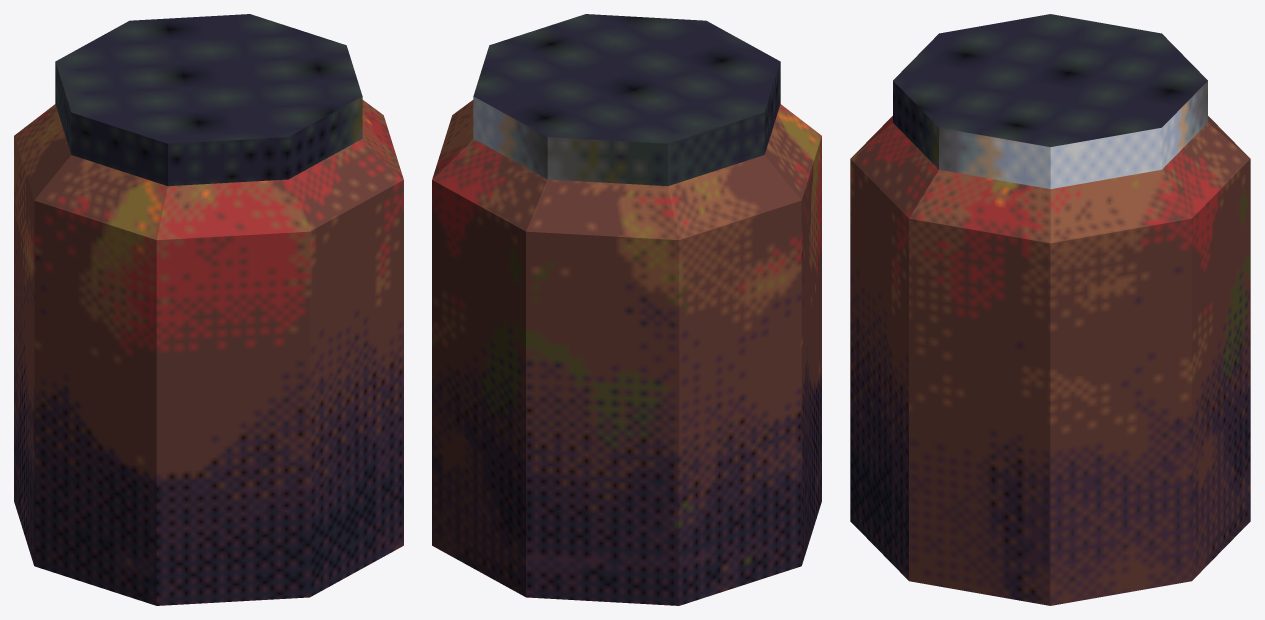
The model's file is Jar.fbx.
3 views of the same model, side by side, from view 1: azimuth 30°, elevation 25°; view 2: azimuth 150°, elevation 25°; view 3: azimuth 270°, elevation 25° (orthographic).
Parts seen in each view (by area): view 1: Cylinder; view 2: Cylinder; view 3: Cylinder.
Boxes of the visible parts, x1,y1,x2,y2 form: Cylinder: [14, 14, 403, 605]; Cylinder: [432, 14, 821, 605]; Cylinder: [850, 14, 1250, 605].
Bounding box in the file's own units: 63.2 × 76.85 × 63.2.
Materials: 1 (1 with a texture image).
